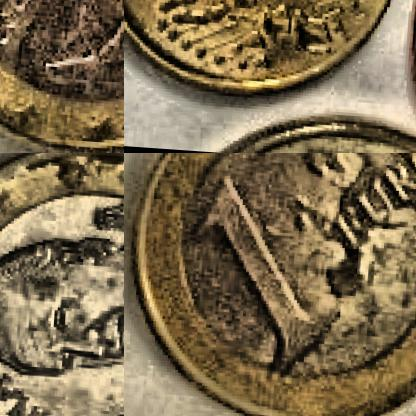coin: (124, 153, 415, 415), (0, 153, 123, 415), (124, 0, 415, 104), (0, 0, 123, 152)
